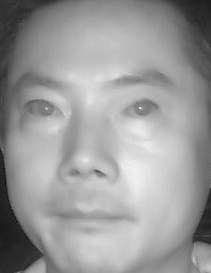eye: (20, 96, 67, 126), (120, 96, 163, 123)
mouth: (53, 195, 138, 242)
